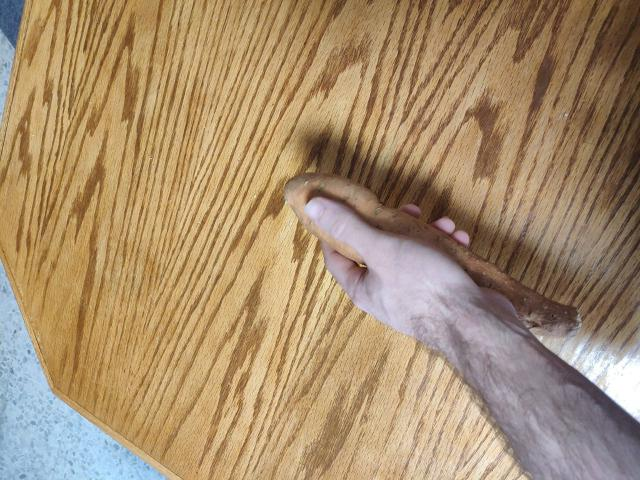sweet_potato: (296, 178, 584, 341)
